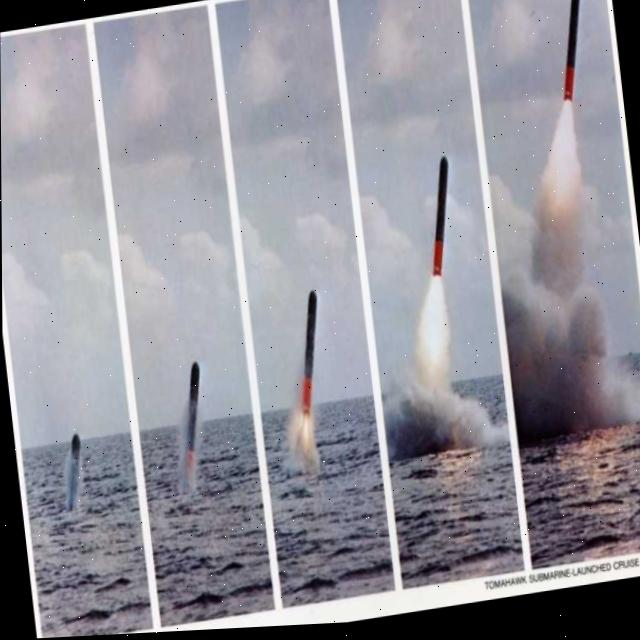missile: (161, 359, 228, 513), (274, 289, 341, 443), (417, 153, 472, 301), (547, 0, 599, 115), (54, 429, 96, 521)
